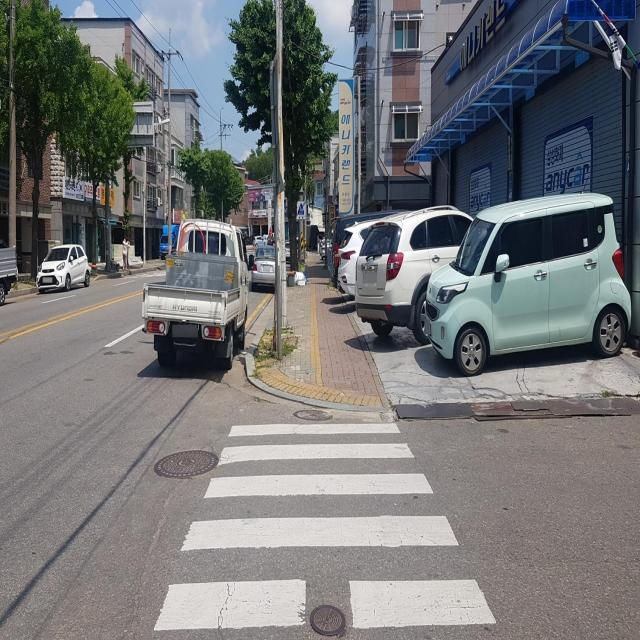횡단보도: (151, 416, 498, 640)
